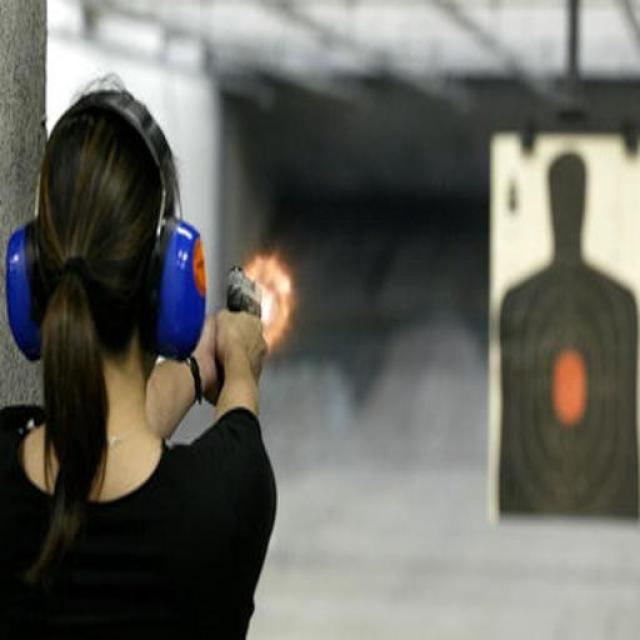pistol: (219, 262, 274, 381)
